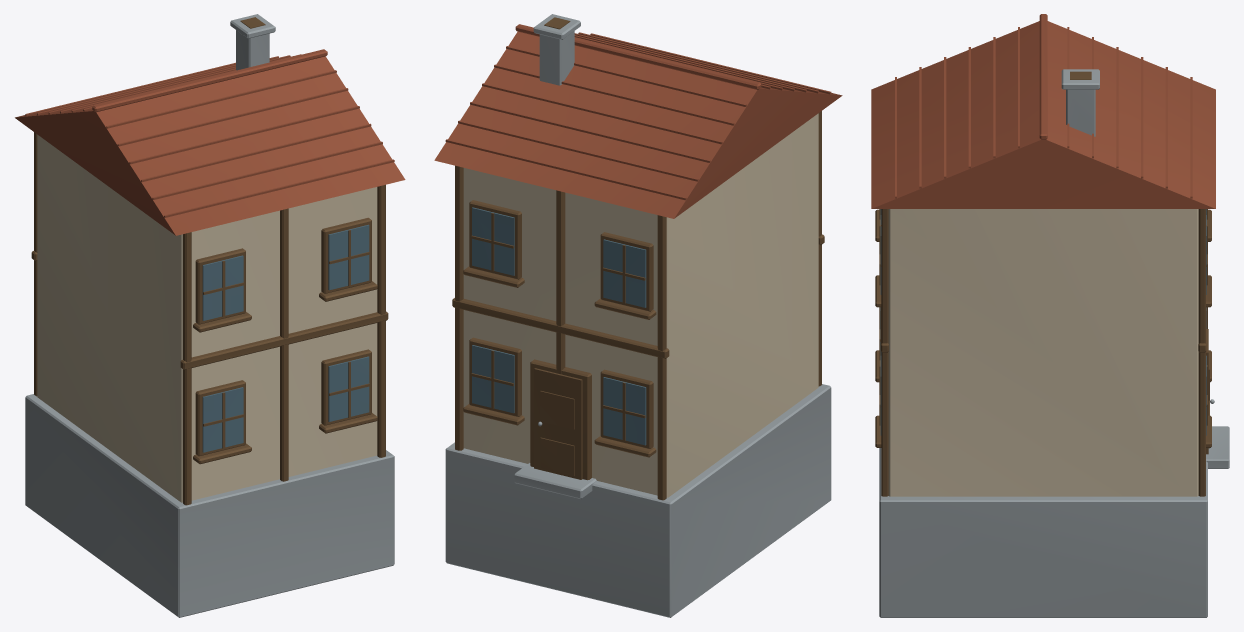
Rendered from house-two-storey.glb.
3 views of the same model, side by side, from view 1: azimuth 30°, elevation 25°; view 2: azimuth 150°, elevation 25°; view 3: azimuth 270°, elevation 25° (orthographic). The views are drawn at different scales.
Parts seen in each view (by area): view 1: house walls, stone foundation, pitched roof, chimney opening, window glass; view 2: house walls, stone foundation, pitched roof, chimney opening, window glass; view 3: house walls, pitched roof, stone foundation, chimney opening, window glass.
Boxes of the visible parts, x1,y1,x2,y2 form: house walls: (37,134,377,502); stone foundation: (25,14,394,617); pitched roof: (15,49,405,235); chimney opening: (31,17,388,505); window glass: (202,224,369,452); house walls: (463,113,818,497); stone foundation: (445,14,831,617); pitched roof: (434,24,842,218); chimney opening: (452,17,824,500); window glass: (472,207,646,445); house walls: (888,209,1198,496); pitched roof: (871,14,1215,208); stone foundation: (879,69,1229,617); chimney opening: (875,71,1211,496); window glass: (880,209,1206,435).
Size of the model in its own units: 4.63 by 9.22 by 5.78.
